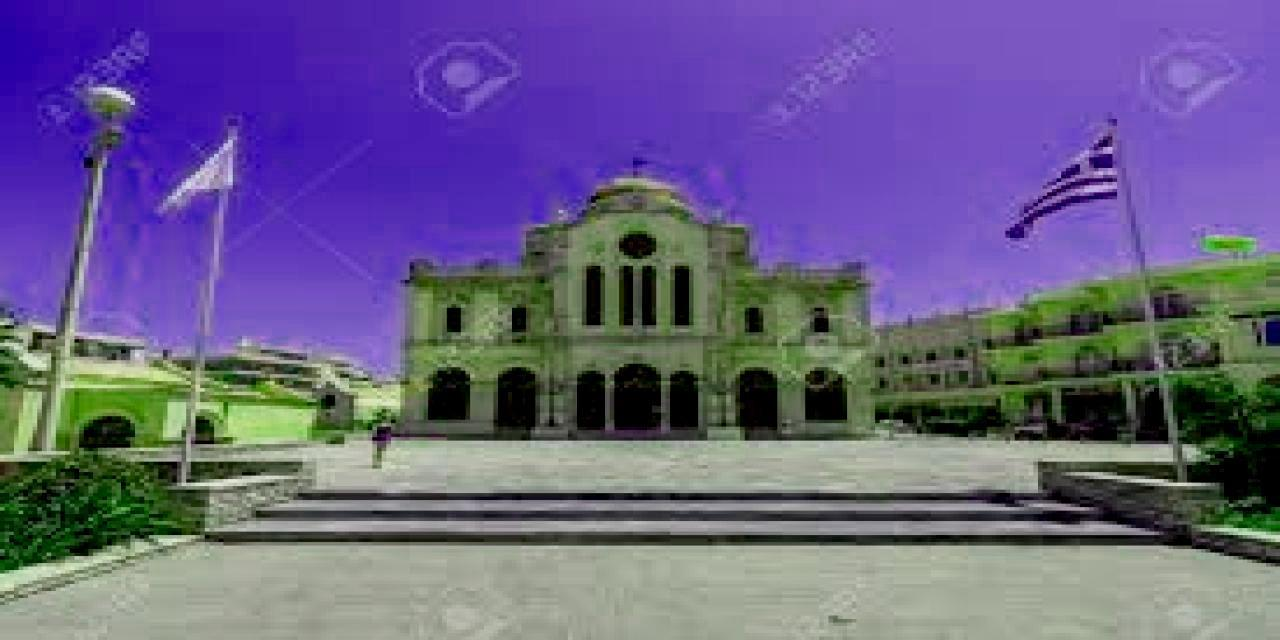Agios Minas: (396, 140, 885, 438)
